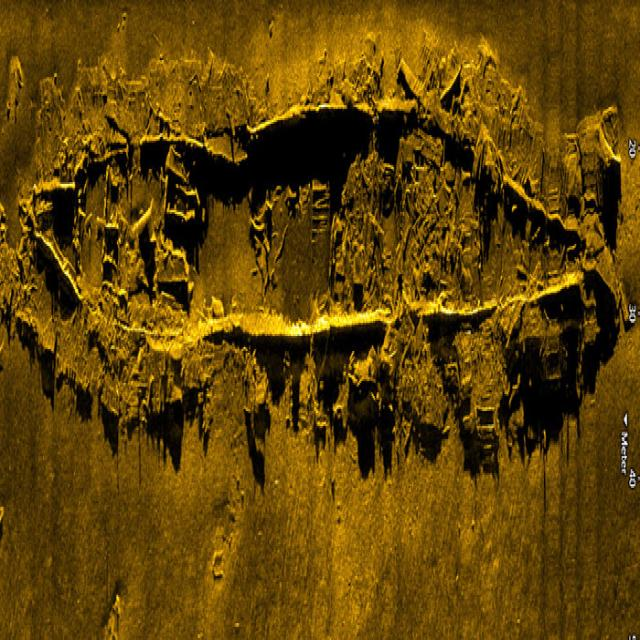ship: (31, 135, 614, 385)
